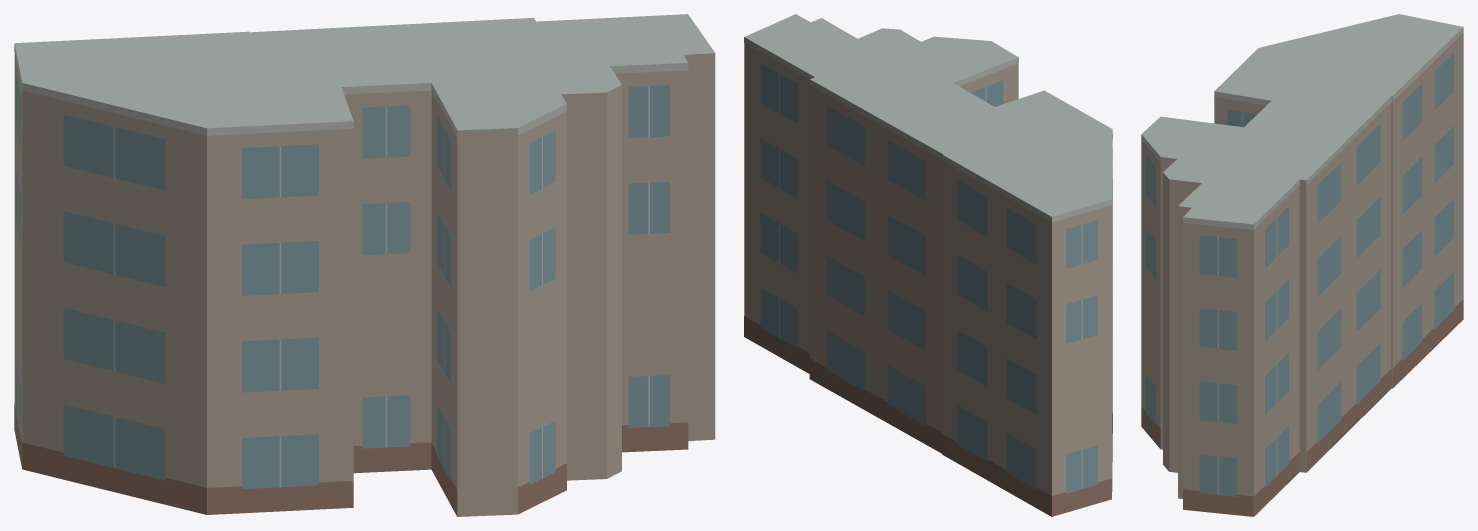
Rendered from survey-upis-32653114.glb.
The picture shows the model from 3 angles, left to right: view 1: azimuth 30°, elevation 25°; view 2: azimuth 150°, elevation 25°; view 3: azimuth 270°, elevation 25°; orthographic projection. The views are drawn at different scales.
Visible parts, largest first — view 1: survey-upis-32653114.tmp; view 2: survey-upis-32653114.tmp; view 3: survey-upis-32653114.tmp.
Boxes of the visible parts, x1=… form: survey-upis-32653114.tmp: x1=14, y1=14, x2=715, y2=516; survey-upis-32653114.tmp: x1=744, y1=14, x2=1112, y2=516; survey-upis-32653114.tmp: x1=1141, y1=14, x2=1463, y2=516.
Bounding box in the file's own units: 19.37 × 12.55 × 12.54.
